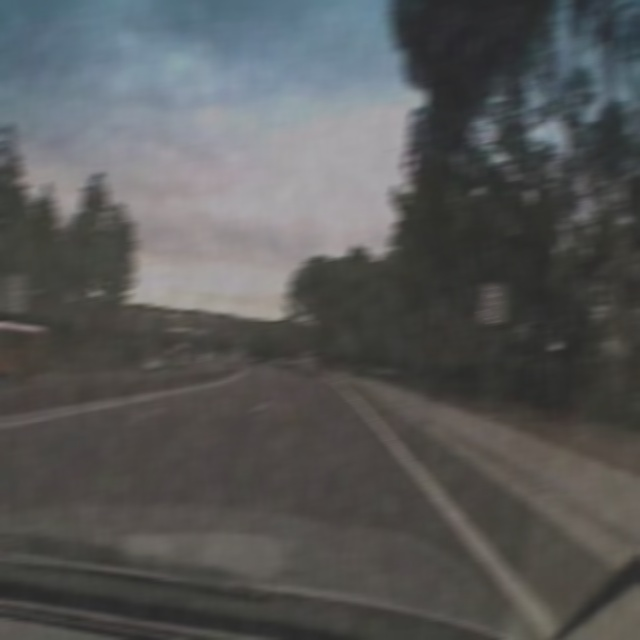speedLimit50: (478, 282, 505, 325)
